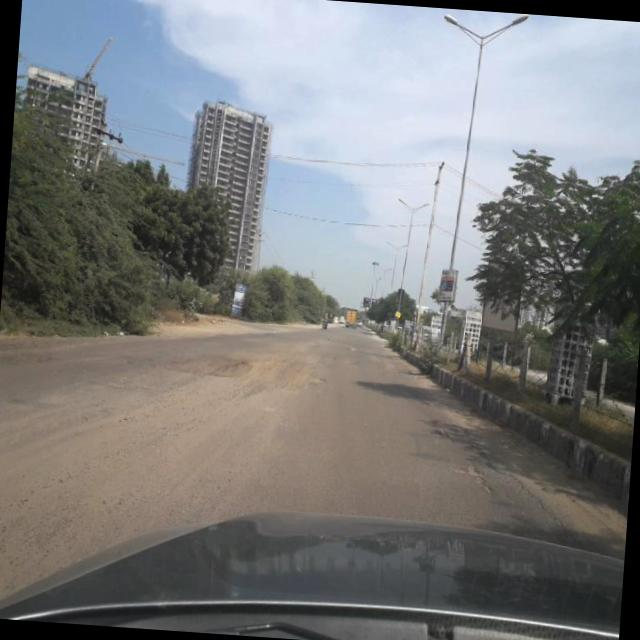crack: (453, 434, 582, 541)
pothole: (148, 336, 342, 415), (462, 449, 494, 505)
